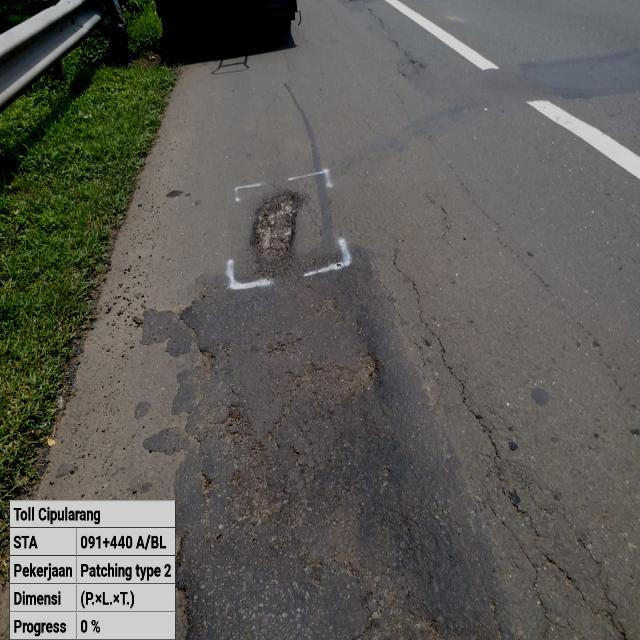Buraco: (246, 188, 305, 280)
